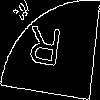R: (25, 25, 63, 76)
